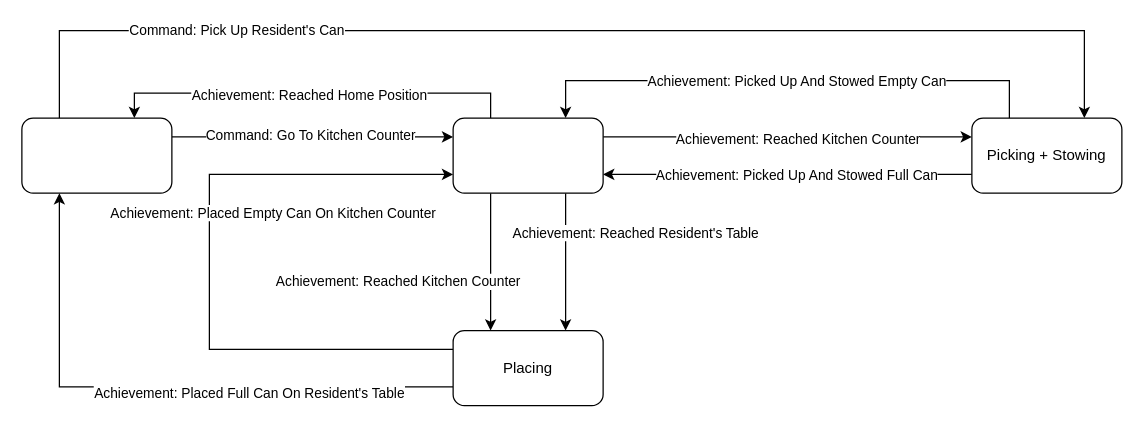
This 1144x428 diagram has some shape labels left out. The shapes that lost their labels are listed below. From the top down, each one's centre as x and y in pixels, then its label:
the point at 96,155: Waiting
the point at 527,155: Navigating
